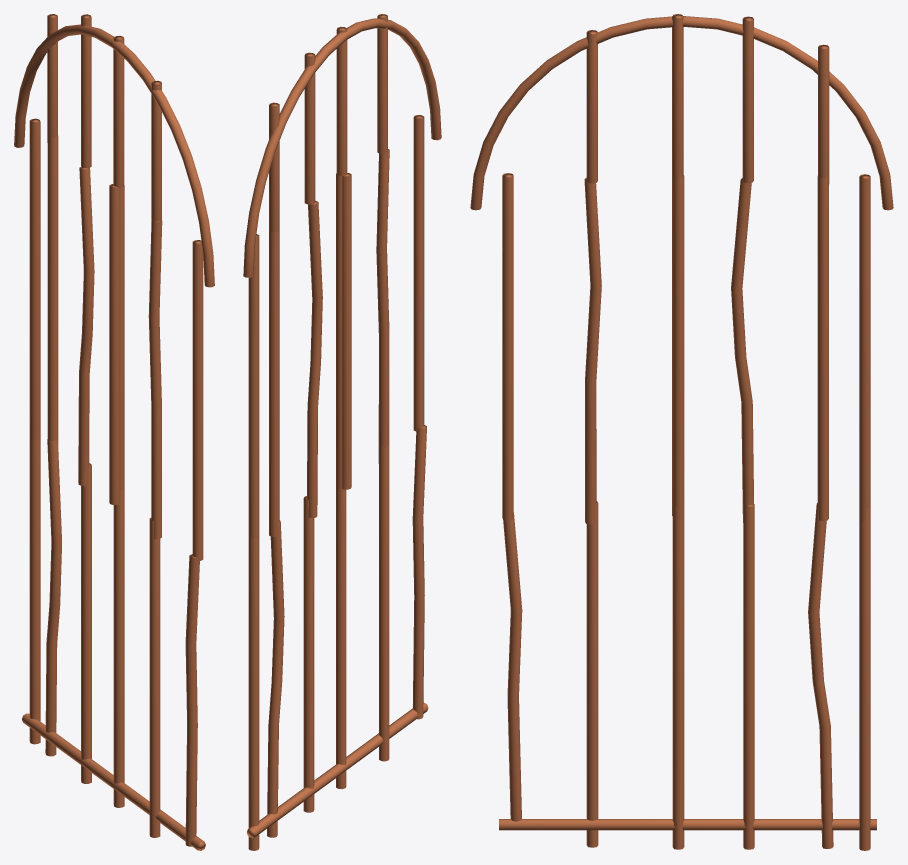
The model's file is Prison_Door_01_Lod1.fbx.
3 renders of one model, left to right at view 1: azimuth 30°, elevation 25°; view 2: azimuth 150°, elevation 25°; view 3: azimuth 270°, elevation 25°, orthographic. The views are drawn at different scales.
Visible parts, largest first — view 1: Prison_Door_01_Lod1; view 2: Prison_Door_01_Lod1; view 3: Prison_Door_01_Lod1.
Part boxes in pixels (x1,y1,x2,y2): Prison_Door_01_Lod1: [14, 14, 214, 850]; Prison_Door_01_Lod1: [243, 14, 441, 850]; Prison_Door_01_Lod1: [470, 14, 893, 850].
Bounding box in the file's own units: 8.12 × 364 × 168.
